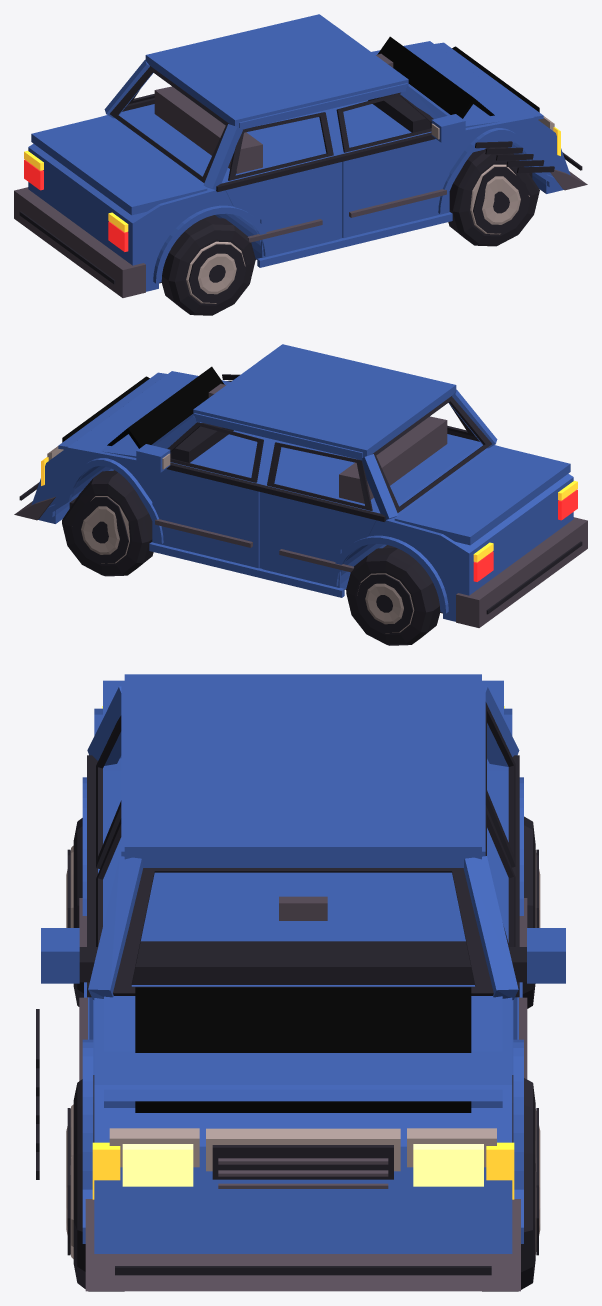
Rendered from veh.sedan-blue.wrecked.glb.
3 views of the same model, one above another, from view 1: azimuth 30°, elevation 25°; view 2: azimuth 150°, elevation 25°; view 3: azimuth 270°, elevation 25° (orthographic). The views are drawn at different scales.
Visible parts, largest first — view 1: body, object 8, wheelRL, wheelFL, lightsBrake; view 2: body, object 8, wheelFR, wheelRR, lightsBrake; view 3: body, object 8, lightsFront, wheelFR, wheelFL, wheelRR, wheelRL.
Boxes of the visible parts, bbox=[...] form: body: bbox=[14, 14, 587, 297]; object 8: bbox=[128, 36, 554, 257]; wheelRL: bbox=[161, 218, 255, 315]; wheelFL: bbox=[448, 147, 539, 246]; lightsBrake: bbox=[24, 150, 128, 251]; body: bbox=[14, 344, 587, 627]; object 8: bbox=[62, 366, 475, 587]; wheelFR: bbox=[62, 470, 153, 576]; wheelRR: bbox=[346, 548, 440, 645]; lightsBrake: bbox=[473, 480, 577, 581]; body: bbox=[82, 674, 523, 1291]; object 8: bbox=[36, 702, 565, 1179]; lightsFront: bbox=[92, 1142, 514, 1199]; wheelFR: bbox=[482, 1075, 540, 1291]; wheelFL: bbox=[66, 1075, 124, 1291]; wheelRR: bbox=[522, 816, 540, 1008]; wheelRL: bbox=[66, 818, 83, 1006].
Size of the model in its own units: 4.45 by 1.64 by 2.18.
